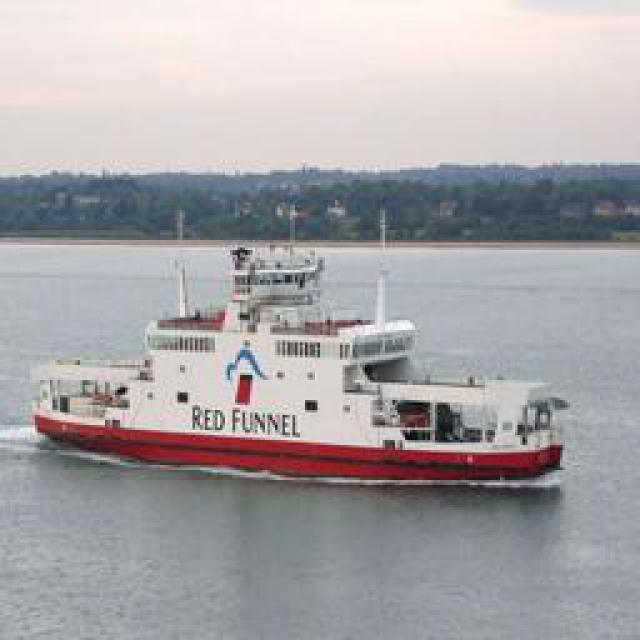Ship: (23, 237, 571, 487)
